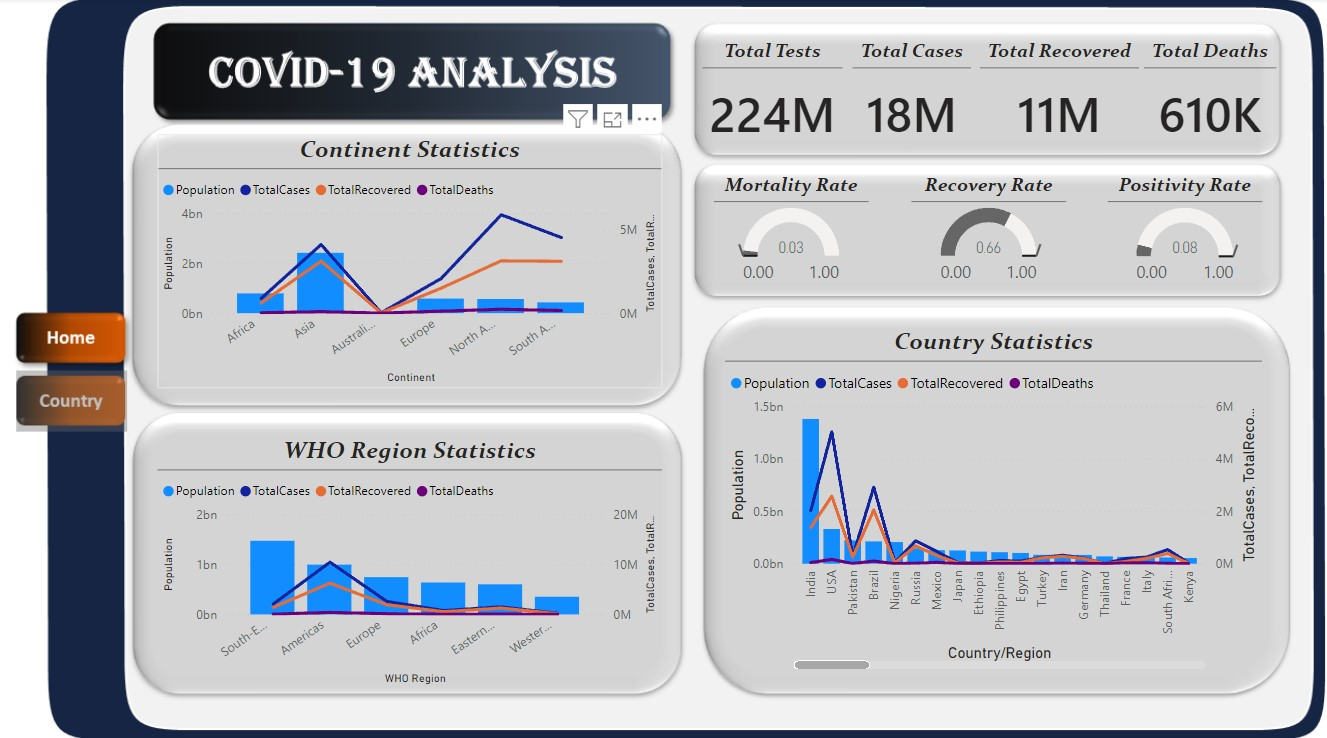

Layout of this report page (visuals, bound fields, positions):
{"tool":"powerbi","page":{"name":"Home","canvas":[1280,720],"ordinal":0},"visuals":[{"type":"actionButton","box":[15.1,359.5,107,59],"z":0},{"type":"card","title":"Total Cases","fields":{"Values":["Imp Measures.Total Cases"]},"box":[879.5,39.8,149.6,109.8],"z":4000},{"type":"card","title":"Total Tests","fields":{"Values":["Imp Measures.Total Tests"]},"box":[688.9,39.8,149.6,109.8],"z":5000},{"type":"card","title":"Total Recovered","fields":{"Values":["Imp Measures.Total Recovered"]},"box":[1049.6,39.8,168.9,109.8],"z":6000},{"type":"card","title":"Total Deaths","fields":{"Values":["Imp Measures.Total Deaths"]},"box":[1048.4,168.8,170.2,109.8],"z":7000},{"type":"gauge","fields":{"Y":["Imp Measures.Mortality Rate"]},"box":[688.9,168.8,149.6,115.3],"z":8000},{"type":"gauge","fields":{"Y":["Imp Measures.Recovery Rate"]},"box":[879.6,168.8,149.6,115.3],"z":9000},{"type":"lineStackedColumnComboChart","title":"Continent Statistics","fields":{"Category":["worldometer_data.Continent"],"Y":["Sum(worldometer_data.Population)"],"Y2":["Sum(worldometer_data.TotalCases)","Sum(worldometer_data.TotalRecovered)","Sum(worldometer_data.TotalDeaths)"]},"box":[152.3,131.7,487.1,244.3],"z":10000},{"type":"lineStackedColumnComboChart","title":"WHO Region Statistics","fields":{"Y":["Sum(worldometer_data.Population)"],"Y2":["Sum(worldometer_data.TotalCases)","Sum(worldometer_data.TotalRecovered)","Sum(worldometer_data.TotalDeaths)"],"Category":["worldometer_data.WHO Region"]},"box":[152.3,422.6,487.1,244.3],"z":11000},{"type":"lineStackedColumnComboChart","title":"Country Statistics","fields":{"Y":["Sum(worldometer_data.Population)"],"Y2":["Sum(worldometer_data.TotalCases)","Sum(worldometer_data.TotalRecovered)","Sum(worldometer_data.TotalDeaths)"],"Category":["worldometer_data.Country/Region"]},"box":[699.8,317,518.7,334.8],"z":12000}]}

Visuals, with their boxes in screenshot pixels (x1, y1, x2, y2), scaled from the page's 1280x720 canvas onto the 1327x738 screenshot:
actionButton: (16, 368, 127, 429)
"Total Cases" card: (912, 41, 1067, 153)
"Total Tests" card: (714, 41, 869, 153)
"Total Recovered" card: (1088, 41, 1263, 153)
"Total Deaths" card: (1087, 173, 1263, 286)
gauge - Imp Measures.Mortality Rate: (714, 173, 869, 291)
gauge - Imp Measures.Recovery Rate: (912, 173, 1067, 291)
"Continent Statistics" lineStackedColumnComboChart: (158, 135, 663, 385)
"WHO Region Statistics" lineStackedColumnComboChart: (158, 433, 663, 684)
"Country Statistics" lineStackedColumnComboChart: (725, 325, 1263, 668)
